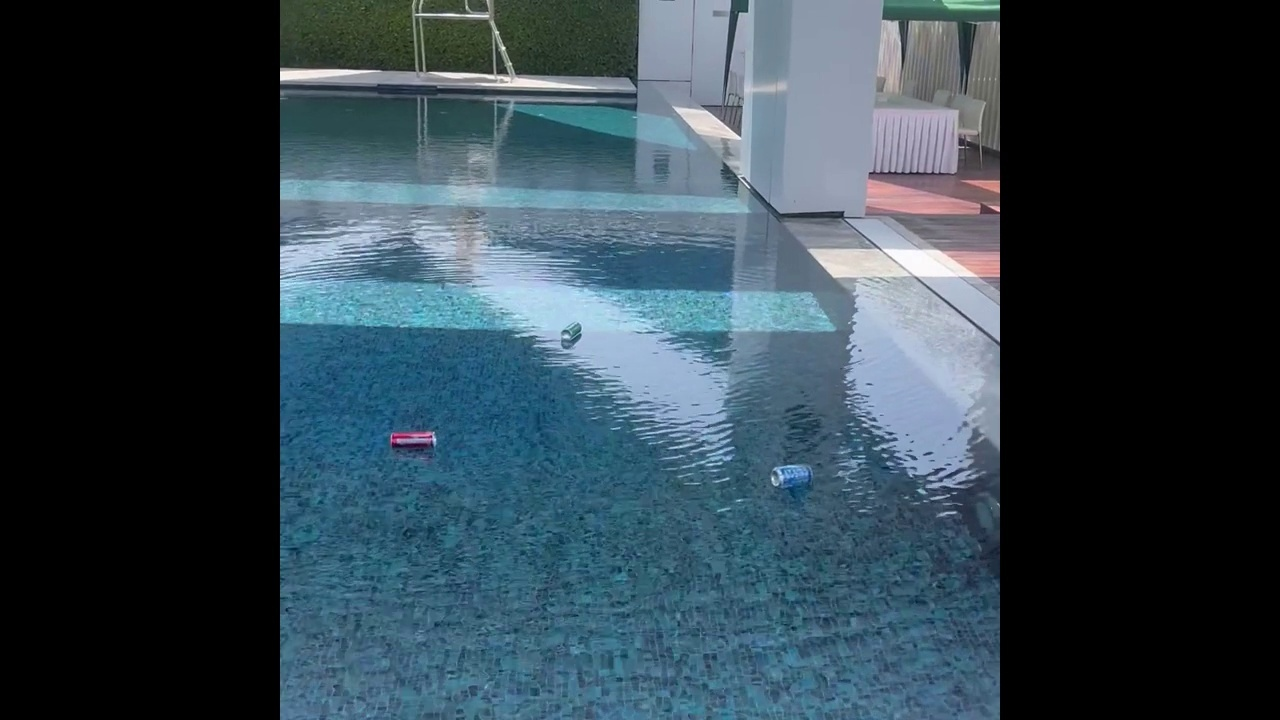debris: (766, 459, 816, 490), (386, 428, 438, 455), (557, 319, 584, 345)
